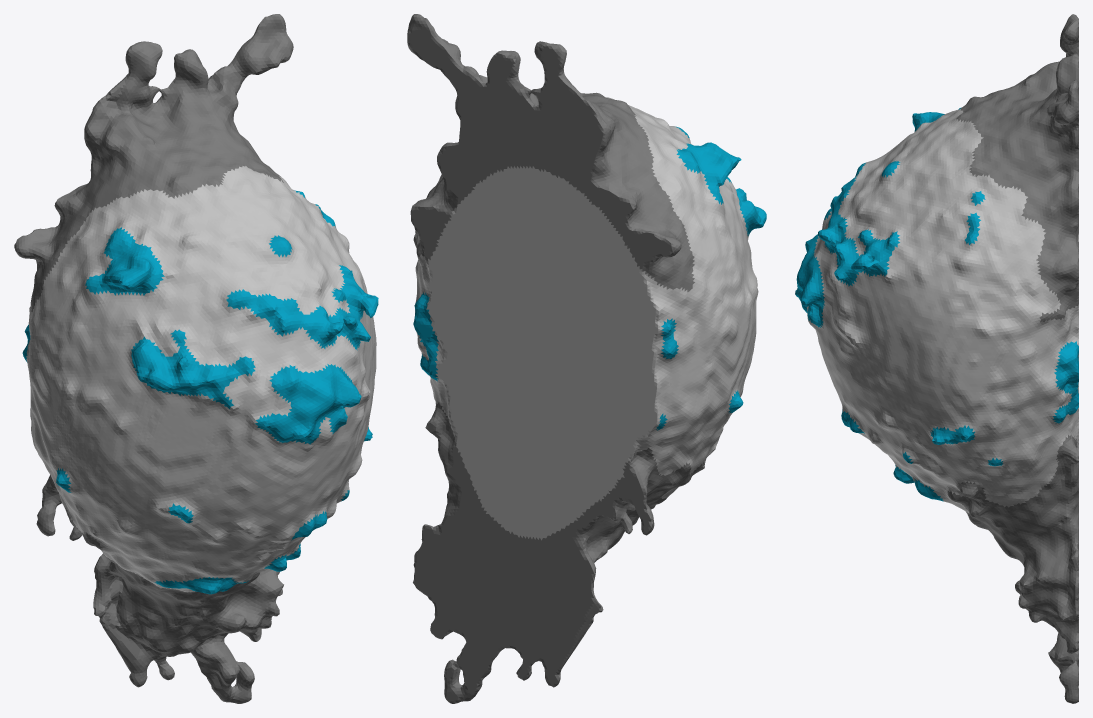
3 renders of one model, left to right at view 1: azimuth 30°, elevation 25°; view 2: azimuth 150°, elevation 25°; view 3: azimuth 270°, elevation 25°, orthographic. The views are drawn at different scales.
Bounding box in the file's own units: 83.8 × 175 × 70.55.
